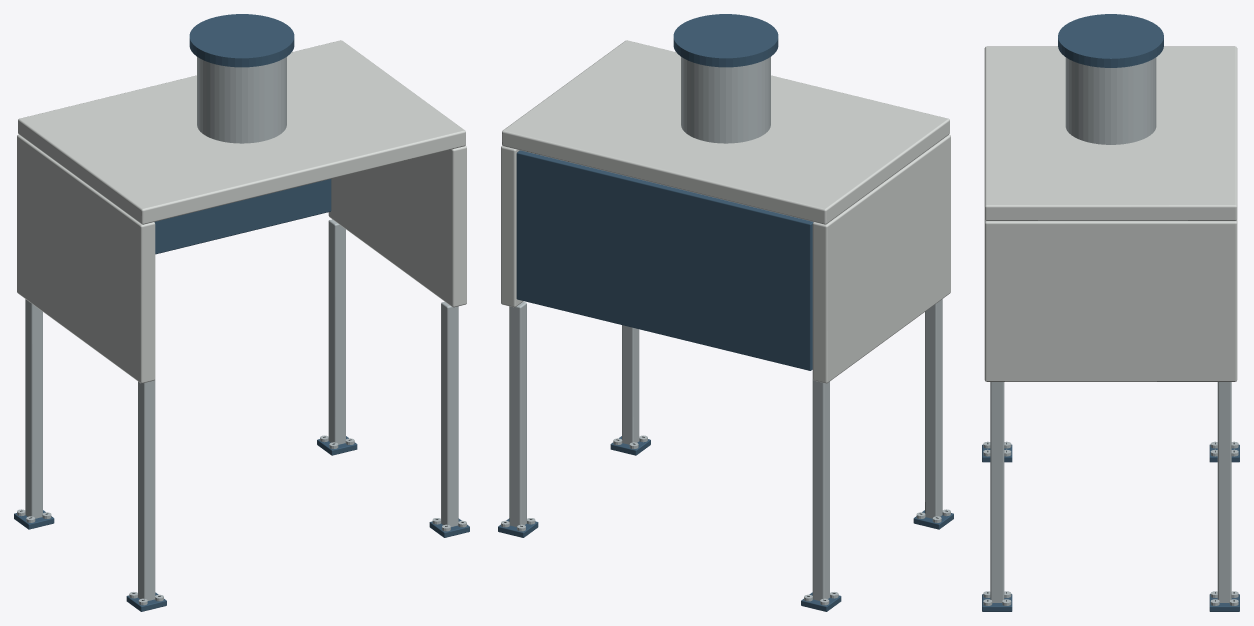
The model's file is container-inspection-and-customs-yard-container-inspec-d6588b7b__29319.glb.
The picture shows the model from 3 angles, left to right: view 1: azimuth 30°, elevation 25°; view 2: azimuth 150°, elevation 25°; view 3: azimuth 270°, elevation 25°; orthographic projection.
Visible parts, largest first — view 1: container-inspection-and-customs-yard-fumigation-hood; view 2: container-inspection-and-customs-yard-fumigation-hood; view 3: container-inspection-and-customs-yard-fumigation-hood.
Part boxes in pixels (x1,y1,x2,y2): container-inspection-and-customs-yard-fumigation-hood: (14,14,469,611); container-inspection-and-customs-yard-fumigation-hood: (498,14,953,611); container-inspection-and-customs-yard-fumigation-hood: (982,14,1239,611).
Size of the model in its own units: 1.52 by 2.16 by 1.02.
